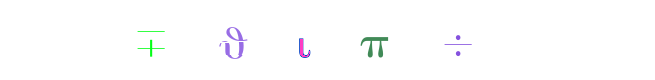4: (332, 0, 412, 80)
7: (111, 0, 191, 80)
I: (262, 0, 342, 80)
P: (287, 0, 367, 80)
Q: (247, 0, 327, 80)
